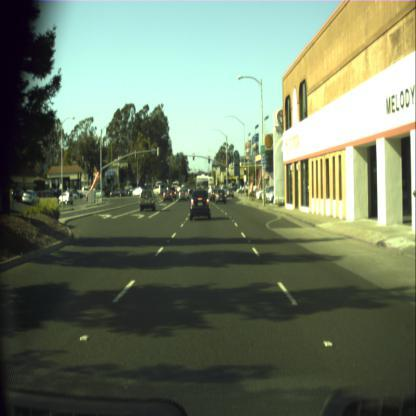Red: (192, 152, 194, 160), (208, 155, 210, 163)
